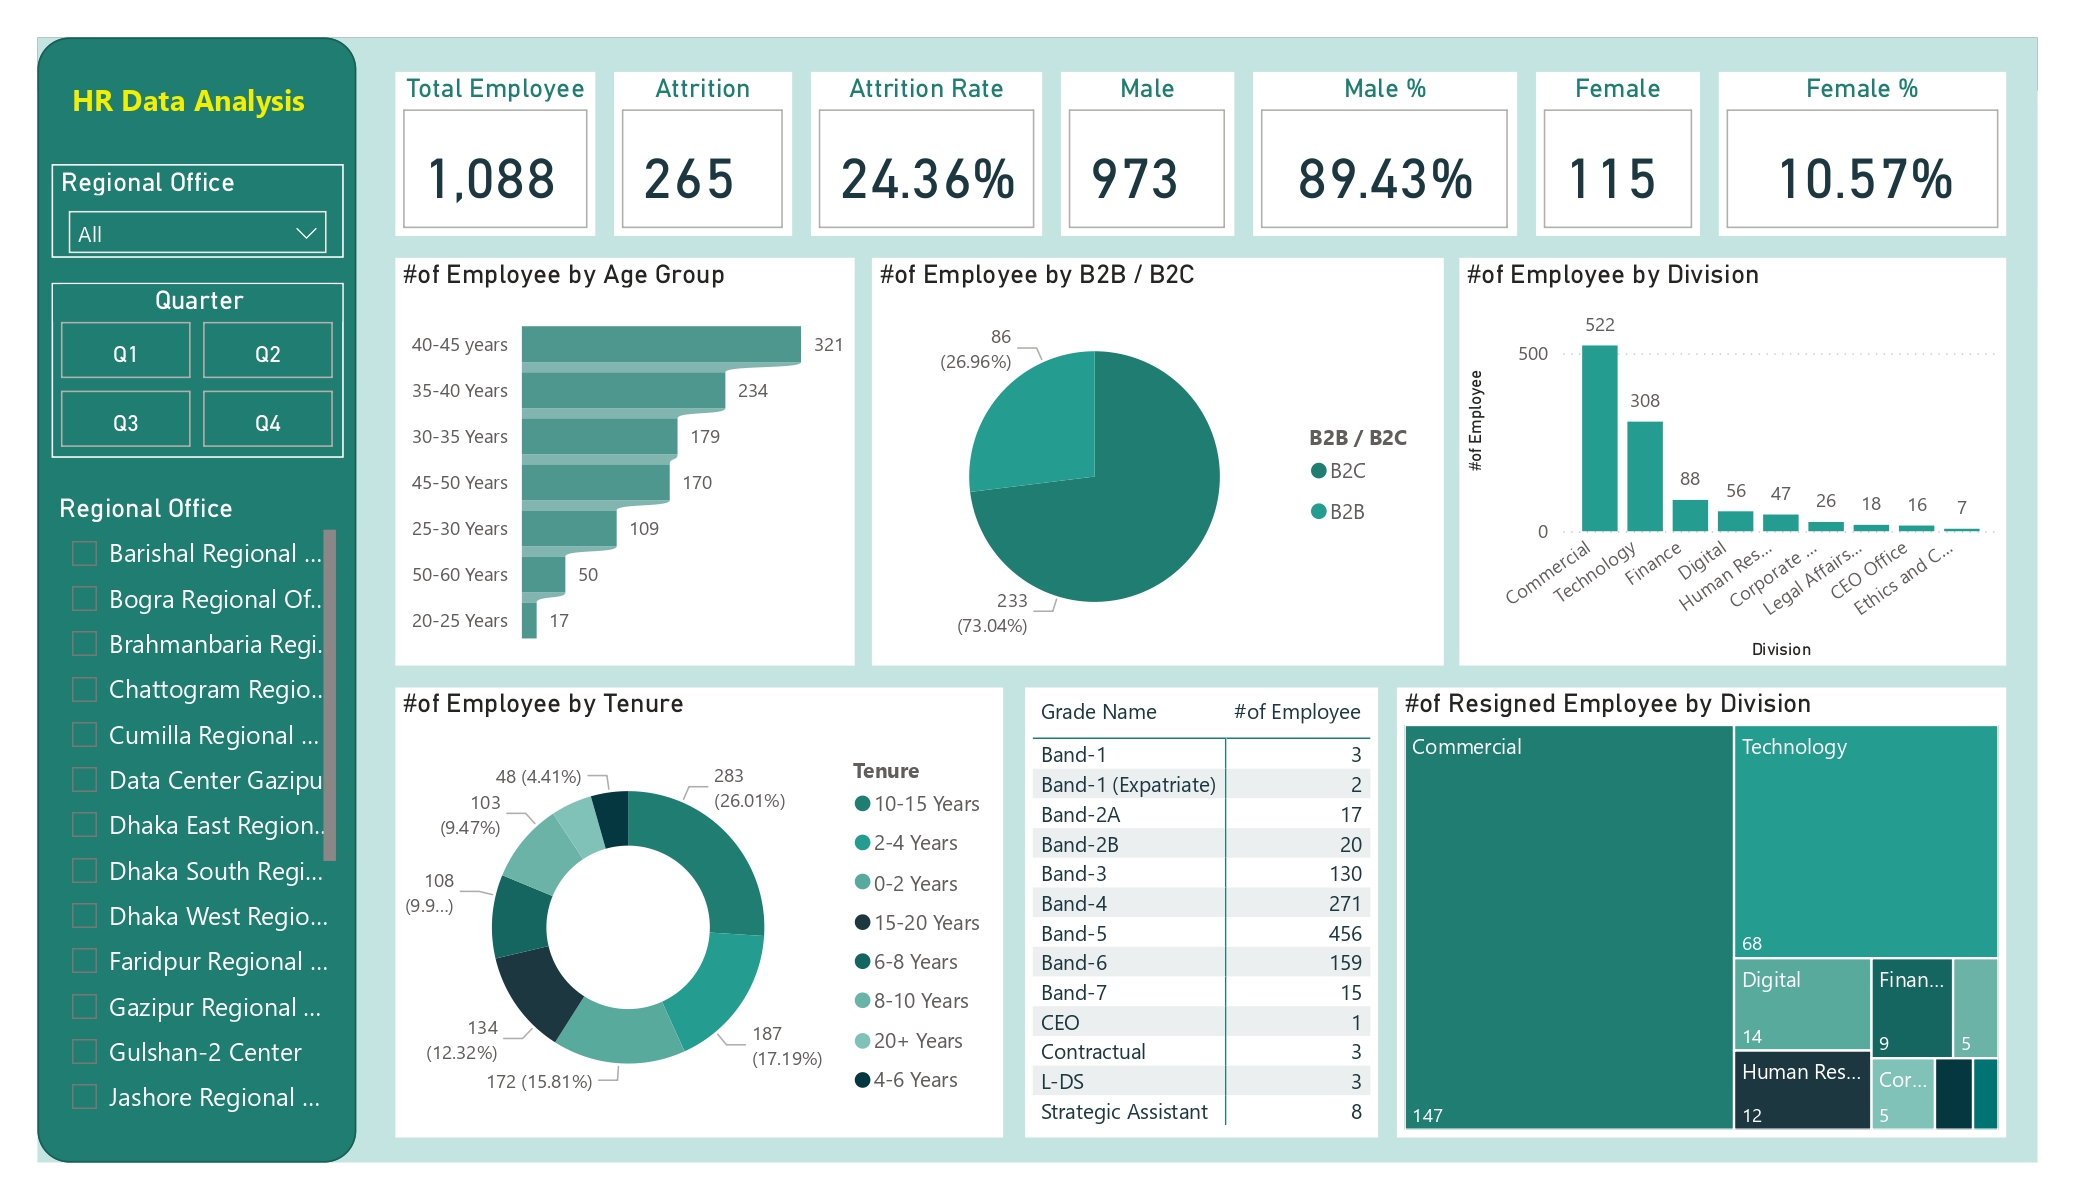

The page's visual inventory and layout, read from the dashboard file:
{"tool":"powerbi","page":{"name":"Page 1","canvas":[1280,720],"ordinal":0},"visuals":[{"type":"cardVisual","title":"Total Employee","fields":{"Data":["Active Employee.#of Employee"]},"box":[229,21.6,128.2,105.1],"z":0},{"type":"cardVisual","title":"Attrition","fields":{"Data":["Resign List.#of Resigned Employee"]},"box":[369.1,21.6,113.8,105.1],"z":1000},{"type":"cardVisual","title":"Attrition Rate","fields":{"Data":["Resign List.Attrition Rate"]},"box":[494.9,21.6,148.3,105.1],"z":2000},{"type":"barChart","fields":{"Category":["Active Employee.Age Group"],"Y":["Active Employee.#of Employee"]},"box":[229,141.1,293.8,260.6],"z":3000},{"type":"lineStackedColumnComboChart","fields":{"Category":["Active Employee.Division"],"Y":["Active Employee.#of Employee"]},"box":[910.1,141.1,349.9,260.6],"z":4000},{"type":"pivotTable","fields":{"Rows":["Active Employee.Grade Name"],"Values":["Active Employee.#of Employee"]},"box":[632.2,416.2,226.1,288],"z":5000},{"type":"donutChart","fields":{"Category":["Active Employee.Tenure"],"Y":["Active Employee.#of Employee"]},"box":[229,416.2,388.8,288],"z":6000},{"type":"pieChart","fields":{"Category":["B2B B2C.B2B / B2C"],"Y":["Active Employee.#of Employee","Resign List.Resign %"]},"box":[534.2,141.1,365.8,260.6],"z":7000},{"type":"shape","box":[0,0,204.5,720],"z":8000},{"type":"textbox","box":[17.3,21.6,168.5,41.8],"z":9000},{"type":"slicer","title":"Select Year","fields":{"Values":["DimDate.Year"]},"box":[8.6,80.6,187.2,60.5],"z":10000},{"type":"advancedSlicerVisual","fields":{"Values":["DimDate.Quarter"]},"box":[8.6,153,187.1,126],"z":11000},{"type":"slicer","title":"Regional Office","fields":{"Values":["Active Employee.Regional Office"]},"box":[8.6,290.9,187.2,413.3],"z":12000},{"type":"cardVisual","title":"Male","fields":{"Data":["Active Employee.Male"]},"box":[655.2,21.6,110.9,105.1],"z":13000},{"type":"cardVisual","title":"Female","fields":{"Data":["Active Employee.Female"]},"box":[958.6,21.6,105.1,105.1],"z":14000},{"type":"cardVisual","title":"Male %","fields":{"Data":["Active Employee.Male %"]},"box":[778.1,21.6,168.5,105.1],"z":15000},{"type":"cardVisual","title":"Female %","fields":{"Data":["Active Employee.Female %"]},"box":[1075.7,21.6,184.3,105.1],"z":16000},{"type":"treemap","fields":{"Group":["Resign List.Division"],"Values":["Resign List.#of Resigned Employee"]},"box":[869.8,416.2,390.2,288],"z":17000}]}

Visuals, with their boxes on the page's 1280x720 design canvas (x1, y1, x2, y2). These are canvas units, not pixel positions in the 2075x1200 screenshot, which may show the page scaled, cropped or inside an application window:
"Total Employee" cardVisual: BBox(229, 22, 357, 127)
"Attrition" cardVisual: BBox(369, 22, 483, 127)
"Attrition Rate" cardVisual: BBox(495, 22, 643, 127)
barChart - Active Employee.Age Group x Active Employee.#of Employee: BBox(229, 141, 523, 402)
lineStackedColumnComboChart - Active Employee.Division x Active Employee.#of Employee: BBox(910, 141, 1260, 402)
pivotTable - Active Employee.Grade Name x Active Employee.#of Employee: BBox(632, 416, 858, 704)
donutChart - Active Employee.Tenure x Active Employee.#of Employee: BBox(229, 416, 618, 704)
pieChart - B2B B2C.B2B / B2C x Active Employee.#of Employee: BBox(534, 141, 900, 402)
shape: BBox(0, 0, 204, 720)
textbox: BBox(17, 22, 186, 63)
"Select Year" slicer: BBox(9, 81, 196, 141)
advancedSlicerVisual - DimDate.Quarter: BBox(9, 153, 196, 279)
"Regional Office" slicer: BBox(9, 291, 196, 704)
"Male" cardVisual: BBox(655, 22, 766, 127)
"Female" cardVisual: BBox(959, 22, 1064, 127)
"Male %" cardVisual: BBox(778, 22, 947, 127)
"Female %" cardVisual: BBox(1076, 22, 1260, 127)
treemap - Resign List.Division x Resign List.#of Resigned Employee: BBox(870, 416, 1260, 704)
